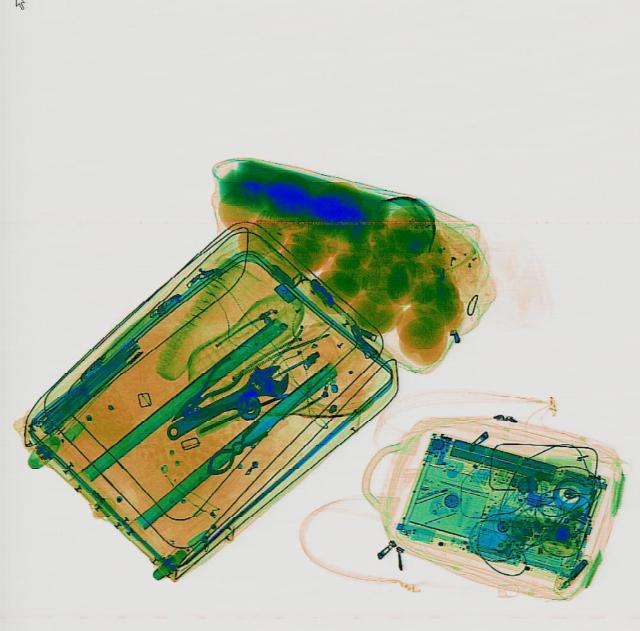Pliers: (158, 351, 248, 432)
Wrench: (154, 353, 298, 449)
